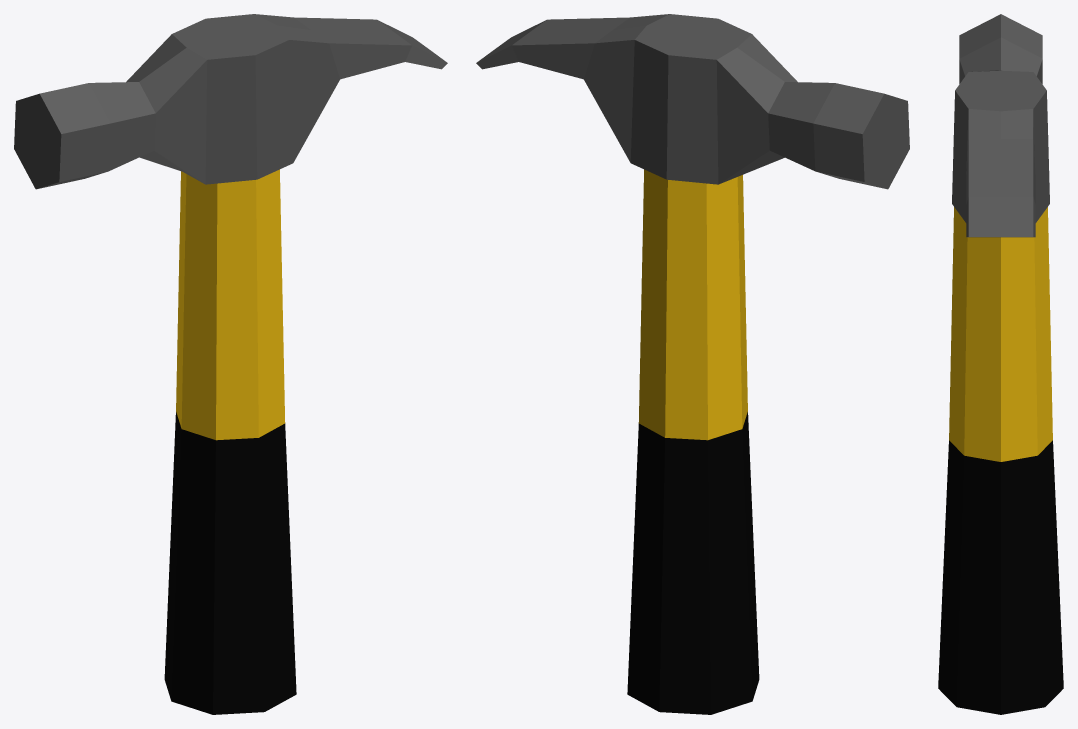
The model's file is Hammer.fbx.
3 renders of one model, left to right at view 1: azimuth 30°, elevation 25°; view 2: azimuth 150°, elevation 25°; view 3: azimuth 270°, elevation 25°, orthographic. The views are drawn at different scales.
Parts seen in each view (by area): view 1: Hammer; view 2: Hammer; view 3: Hammer.
Boxes of the visible parts, x1,y1,x2,y2 form: Hammer: (14,14,447,714); Hammer: (476,14,909,714); Hammer: (938,14,1063,714).
Size of the model in its own units: 13.51 by 21.26 by 4.05.
